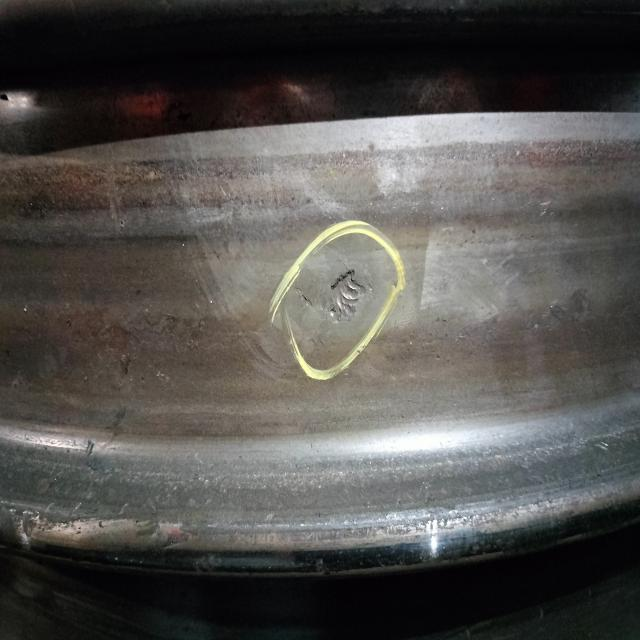Blue hole: (301, 265, 374, 335)
